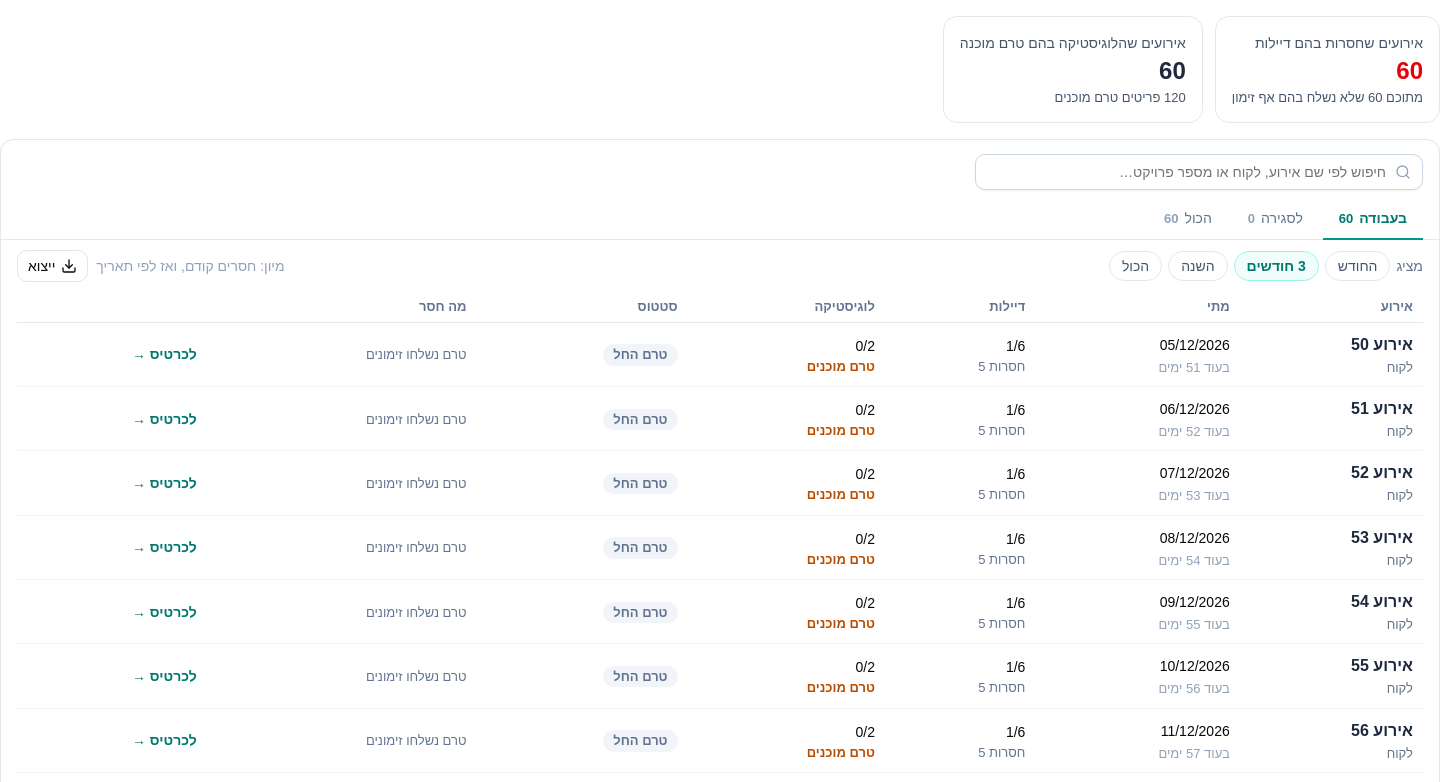
Test: ProjectsPage — דפדוף (04/09/2026) › רשימה של 60 שורות מוצגת בעמודים של 50, והחלפת-לשונית מאפסת את העמוד
The image size is (1440, 782).
Click the tab with test id "projects-tab-all".
click(1188, 219)  # box [1148,198,1228,240]
(page scrolled)
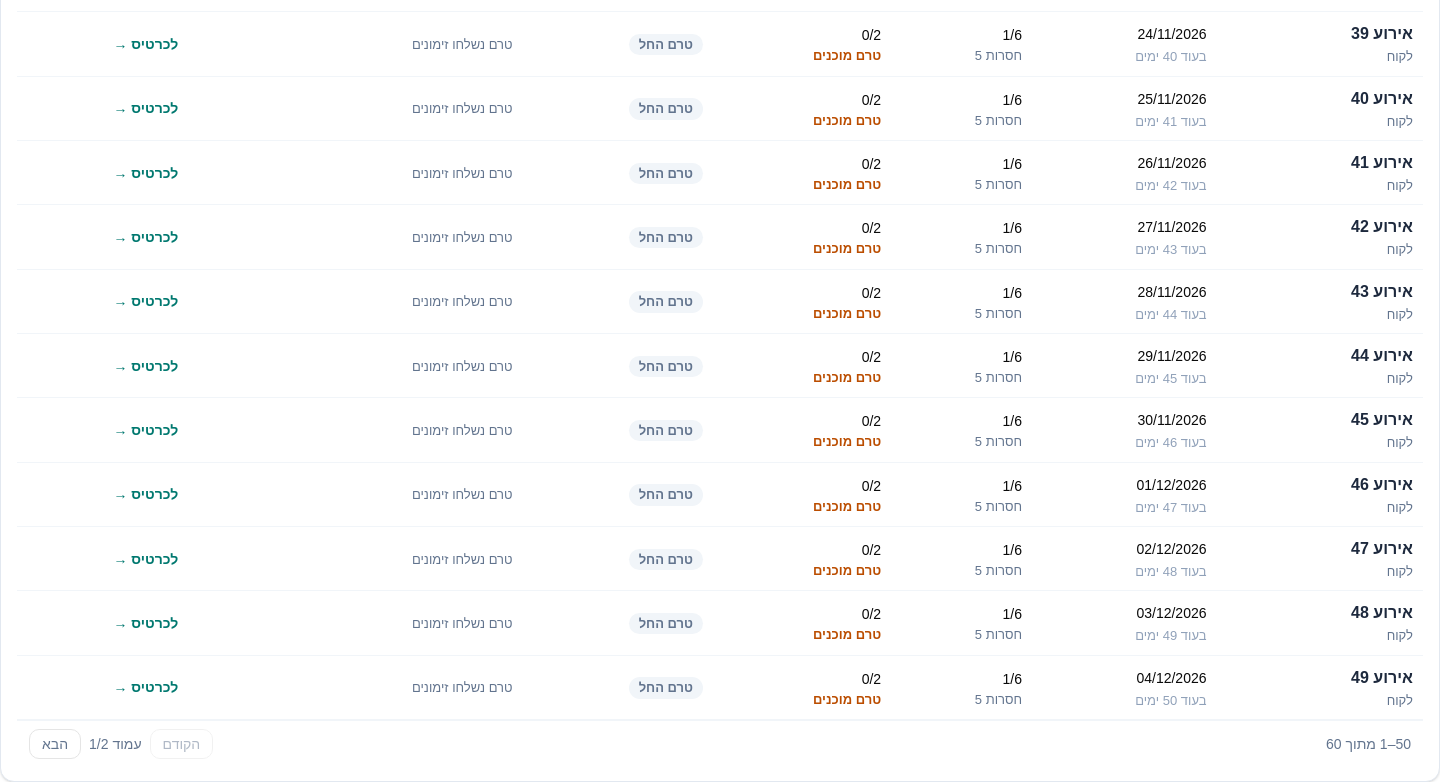
Check: the element with test id "list-pager-page" shows "1/2", box [89,734,142,754]
